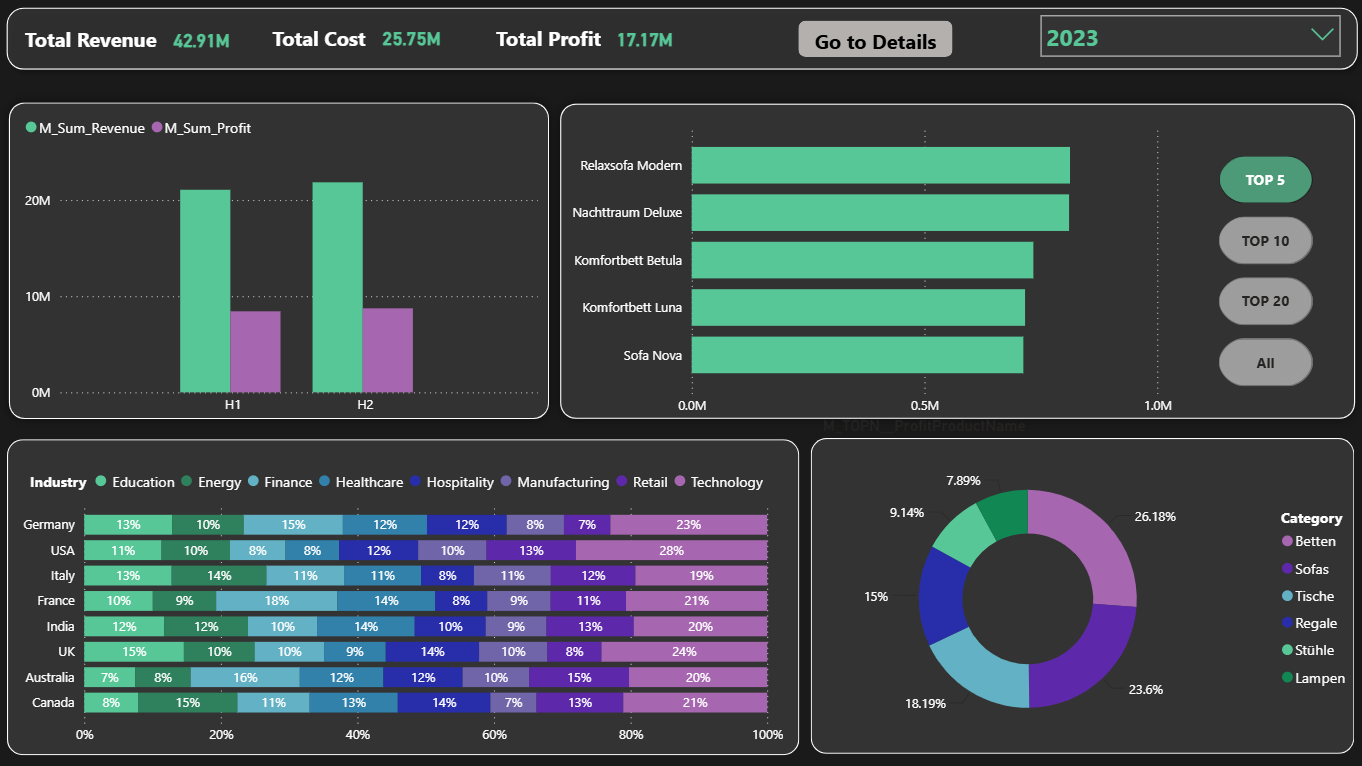

The dashboard page shown, as its layout file describes it:
{"tool":"powerbi","page":{"name":"Header","canvas":[1280,720],"ordinal":0},"visuals":[{"type":"shape","box":[9.1,411.5,739.9,295],"z":0},{"type":"shape","box":[1.4,87.1,524.3,315.7],"z":1000},{"type":"shape","box":[516.3,88.6,762.3,314.3],"z":2000},{"type":"shape","box":[759.5,411.4,507.6,294.9],"z":3000},{"type":"shape","box":[0,0,1279.8,75.9],"z":4000},{"type":"card","fields":{"Values":["ListOfMeasures.M_Sum_Cost"]},"box":[339.9,19.2,95,40.6],"z":5000},{"type":"card","fields":{"Values":["ListOfMeasures.M_Sum_Profit"]},"box":[546,16.5,117.2,47.2],"z":6000},{"type":"card","fields":{"Values":["ListOfMeasures.M_Sum_Revenue"]},"box":[138.2,22,106.7,36.7],"z":7000},{"type":"textbox","box":[252.7,20.1,122.5,40],"z":8000},{"type":"textbox","box":[21.5,20.5,140.5,37.2],"z":9000},{"type":"textbox","box":[461,20.1,122.5,40],"z":10000},{"type":"clusteredColumnChart","fields":{"Y":["ListOfMeasures.M_Sum_Revenue","ListOfMeasures.M_Sum_Profit"],"Category":["DimDate.HalfYearName Hierarchy.HalfYearName","DimDate.HalfYearName Hierarchy.QuarterName","DimDate.HalfYearName Hierarchy.MonthName"]},"box":[21.4,99.8,489,297.8],"z":11000},{"type":"clusteredBarChart","fields":{"Category":["DimProduct.ProductName"],"Y":["ListOfMeasures.M_TOPN__ProfitProductName"]},"box":[522.8,108.9,579.8,303.8],"z":12000},{"type":"hundredPercentStackedBarChart","fields":{"Category":["DimCustomers.Country"],"Y":["ListOfMeasures.M_Sum_Revenue"],"Series":["DimCustomers.Industry"]},"box":[12.1,431.2,727.8,275.4],"z":13000},{"type":"donutChart","fields":{"Category":["DimProduct.Category"],"Y":["ListOfMeasures.M_Sum_Profit"]},"box":[721.2,422,558.8,277.5],"z":14000},{"type":"slicer","fields":{"Values":["DimDate.Year_Date"]},"box":[963.8,6.3,300,55.7],"z":15000},{"type":"advancedSlicerVisual","fields":{"Values":["TopTBL.Value"]},"box":[1145.6,100,100,220.3],"z":16000},{"type":"actionButton","box":[748.1,21.5,144.3,34.2],"z":17000}]}

Visuals, with their boxes in screenshot pixels (x1, y1, x2, y2), scaled from the page's 1280x720 canvas onto the 1362x766 screenshot:
shape: (10,438,797,752)
shape: (1,93,559,429)
shape: (549,94,1361,429)
shape: (808,438,1348,751)
shape: (0,0,1361,81)
card - ListOfMeasures.M_Sum_Cost: (362,20,463,64)
card - ListOfMeasures.M_Sum_Profit: (581,18,706,68)
card - ListOfMeasures.M_Sum_Revenue: (147,23,261,62)
textbox: (269,21,399,64)
textbox: (23,22,172,61)
textbox: (491,21,621,64)
clusteredColumnChart - ListOfMeasures.M_Sum_Revenue x ListOfMeasures.M_Sum_Profit: (23,106,543,423)
clusteredBarChart - DimProduct.ProductName x ListOfMeasures.M_TOPN__ProfitProductName: (556,116,1173,439)
hundredPercentStackedBarChart - DimCustomers.Country x ListOfMeasures.M_Sum_Revenue: (13,459,787,752)
donutChart - DimProduct.Category x ListOfMeasures.M_Sum_Profit: (767,449,1361,744)
slicer - DimDate.Year_Date: (1026,7,1345,66)
advancedSlicerVisual - TopTBL.Value: (1219,106,1325,341)
actionButton: (796,23,950,59)
